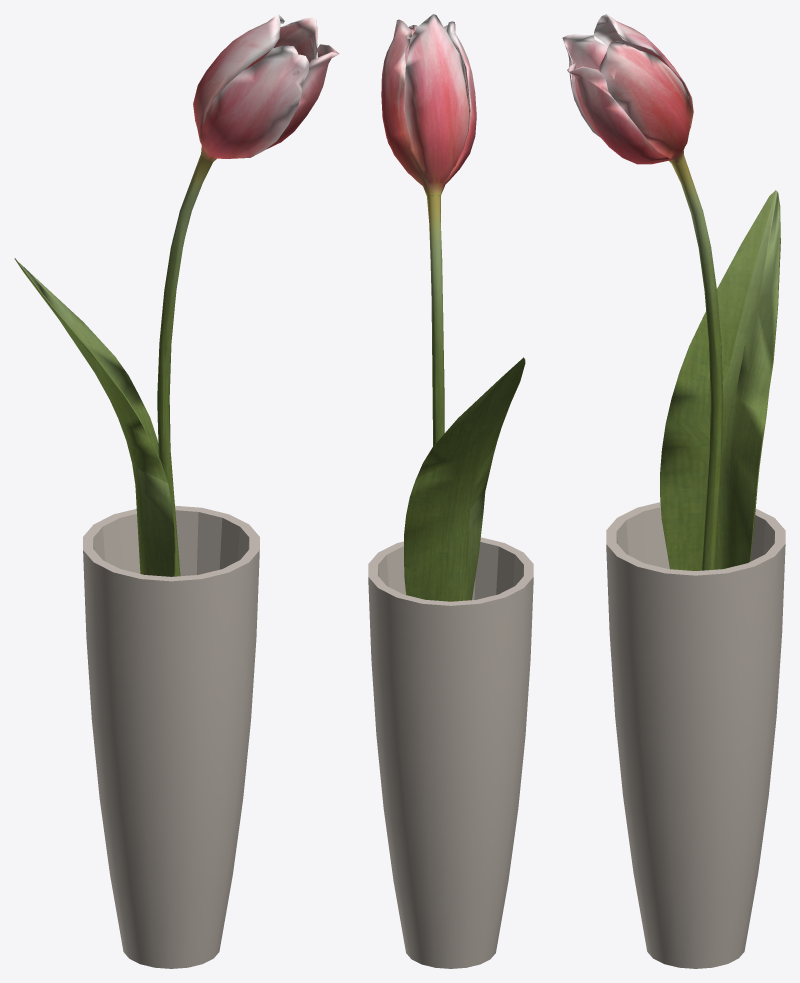
The model's file is Flower.FBX.
The picture shows the model from 3 angles, left to right: view 1: azimuth 30°, elevation 25°; view 2: azimuth 150°, elevation 25°; view 3: azimuth 270°, elevation 25°; orthographic projection. The views are drawn at different scales.
Parts seen in each view (by area): view 1: Flower; view 2: Flower; view 3: Flower.
Part boxes in pixels (box(x1,y1,x2,y2)): Flower: box(14, 14, 339, 968); Flower: box(368, 14, 533, 968); Flower: box(562, 14, 785, 968).
Size of the model in its own units: 249 by 1015 by 213.
Materials: 2 (1 with a texture image).
